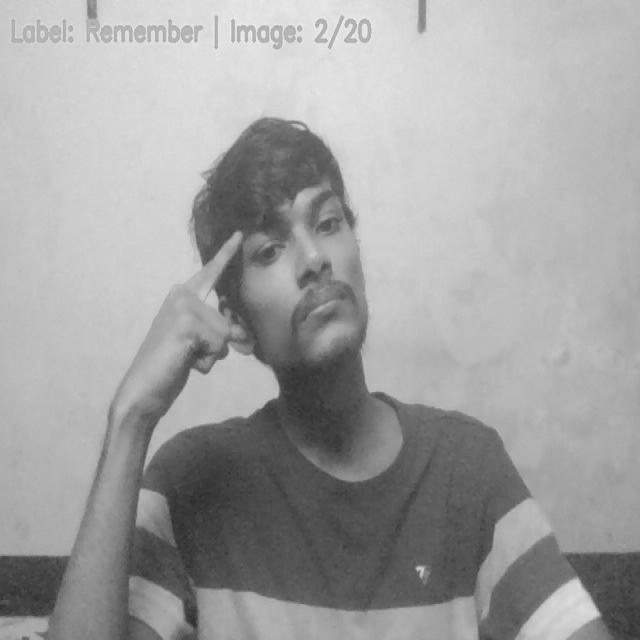Remember: (128, 228, 243, 394)
